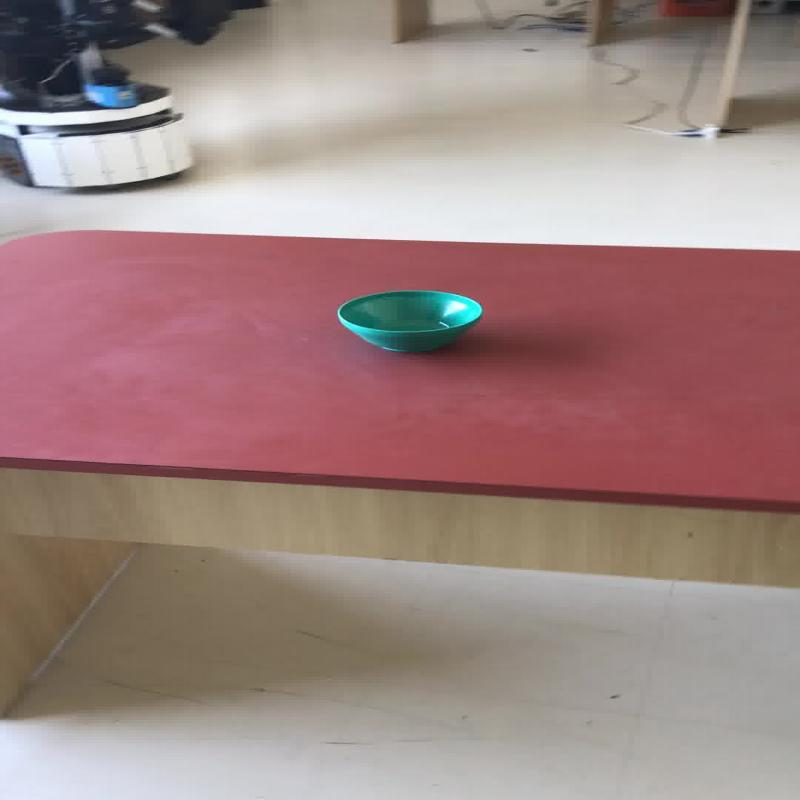bowl: (336, 288, 482, 352)
